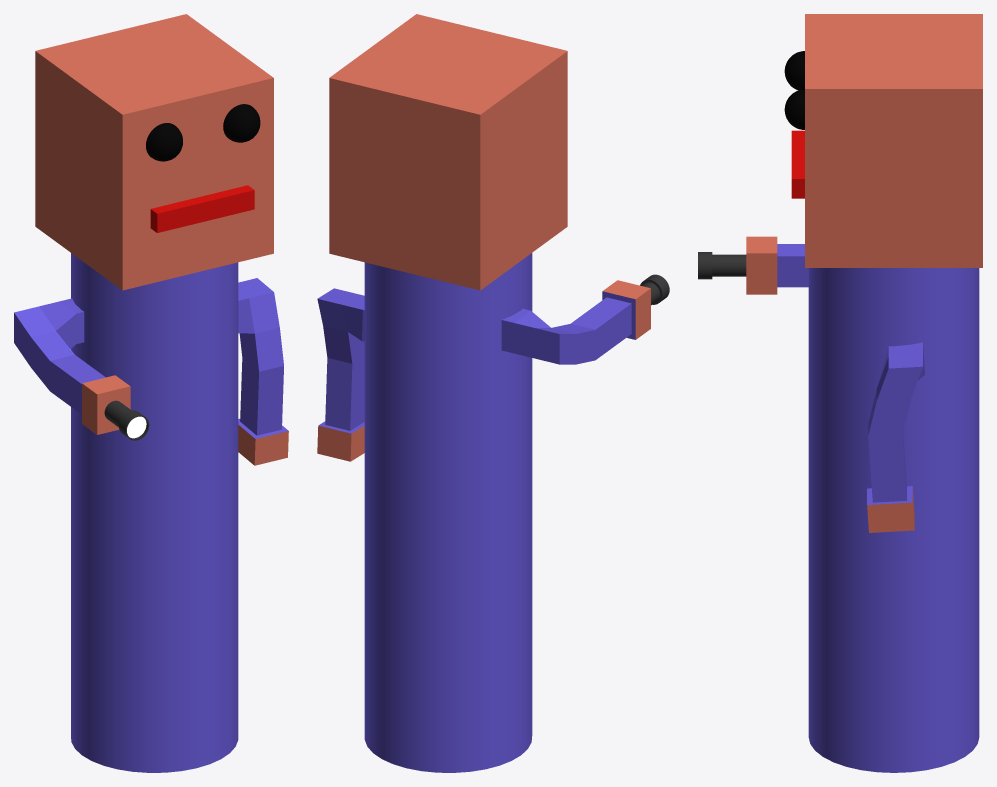
The model's file is player.glb.
3 renders of one model, left to right at view 1: azimuth 30°, elevation 25°; view 2: azimuth 150°, elevation 25°; view 3: azimuth 270°, elevation 25°, orthographic.
Parts seen in each view (by area): view 1: Cylinder, Cube, Cube.003, Cube.002, Cube.001, Sphere, Sphere.001, Cylinder.001; view 2: Cylinder, Cube, Cube.002, Cube.003; view 3: Cylinder, Cube, Cube.003, Cube.002, Cylinder.001, Cube.001, Sphere, Sphere.001.
Part boxes in pixels (x1,y1,x2,y2): Cylinder: [71, 253, 238, 772]; Cube: [35, 14, 273, 290]; Cube.003: [238, 278, 288, 465]; Cube.002: [14, 298, 130, 434]; Cube.001: [150, 185, 254, 232]; Sphere: [223, 104, 260, 142]; Sphere.001: [146, 123, 182, 161]; Cylinder.001: [104, 400, 149, 440]; Cylinder: [364, 253, 532, 772]; Cube: [329, 14, 567, 290]; Cube.002: [501, 280, 650, 364]; Cube.003: [317, 288, 364, 461]; Cylinder: [808, 268, 979, 772]; Cube: [805, 14, 982, 267]; Cube.003: [867, 342, 924, 532]; Cube.002: [746, 236, 808, 294]; Cylinder.001: [698, 252, 746, 279]; Cube.001: [791, 130, 804, 198]; Sphere: [784, 89, 804, 129]; Sphere.001: [784, 51, 804, 90].
Size of the model in its own units: 0.9732 by 2.49 by 0.9396.
